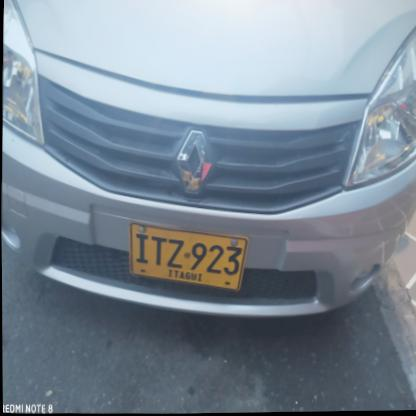placa: (121, 215, 249, 296)
